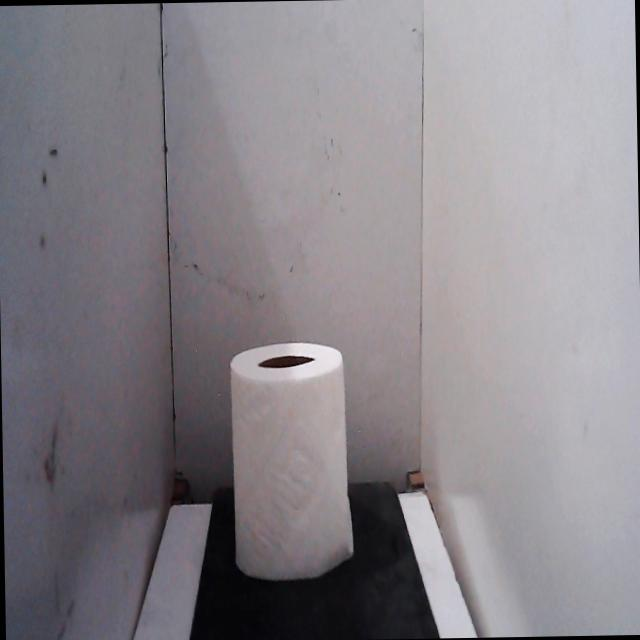papel: (216, 328, 362, 592)
